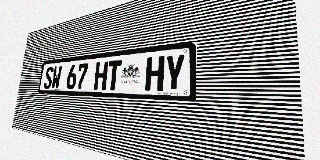6: (66, 64, 78, 89)
7: (75, 63, 89, 90)
H: (145, 56, 165, 91), (94, 61, 108, 90)
S: (43, 66, 54, 89)
T: (106, 60, 122, 90)
W: (51, 66, 62, 89)
Y: (164, 54, 186, 92)
